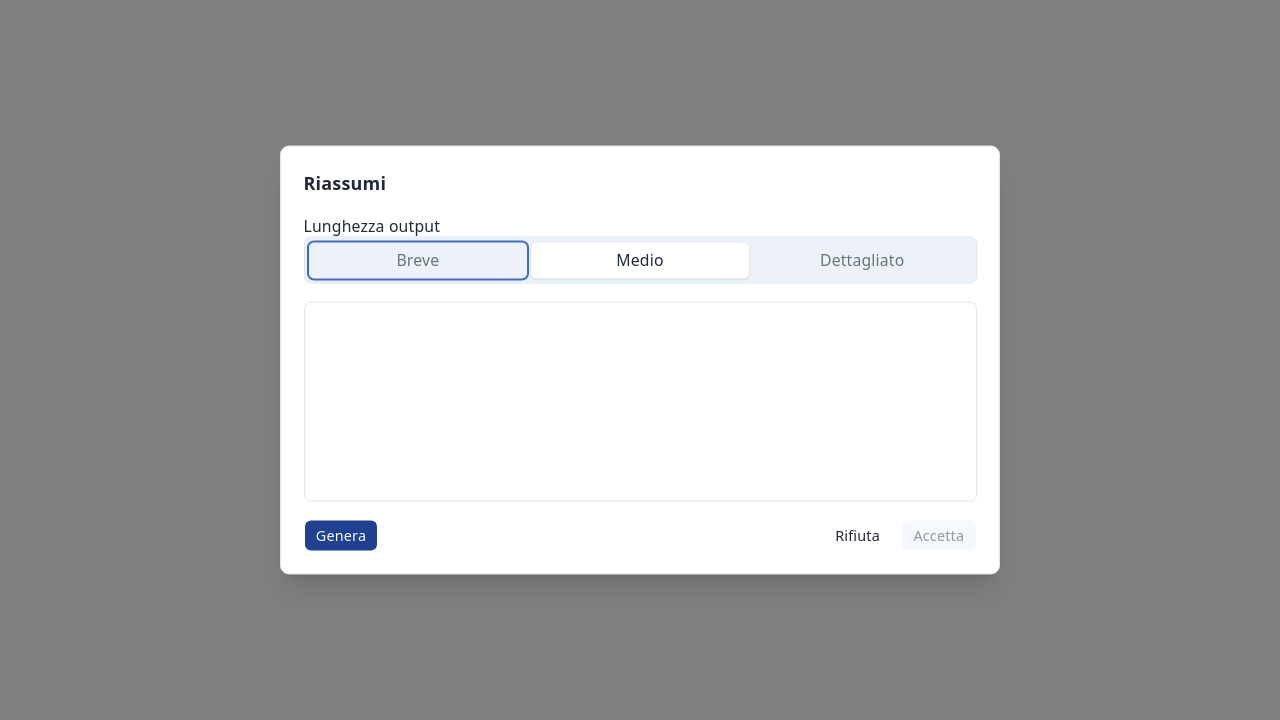
Test: AiActionDialog — testo insufficiente (R-81) › summarize: nessuna fetch con testo dell editor troppo corto
Click the button "Genera".
click(341, 535)  # box [304,520,378,551]
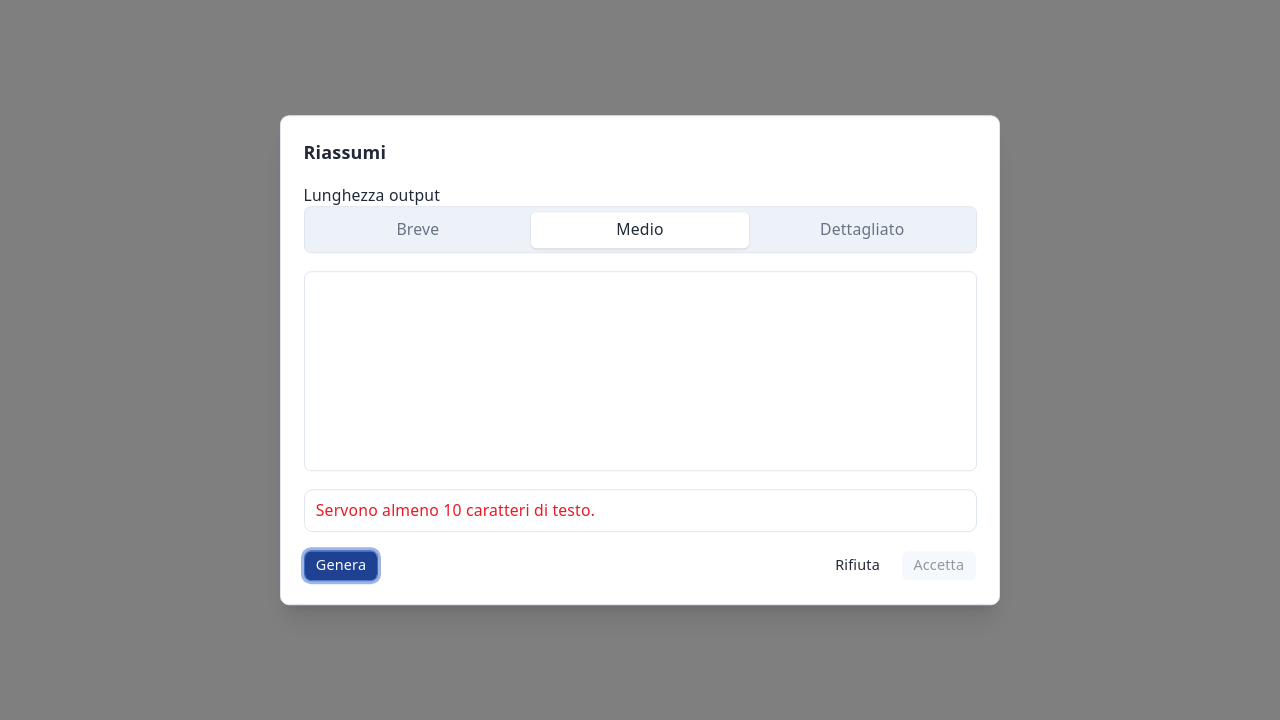
Check: the message "Servono almeno 10 caratteri di testo." is shown, box [304,489,976,532]
